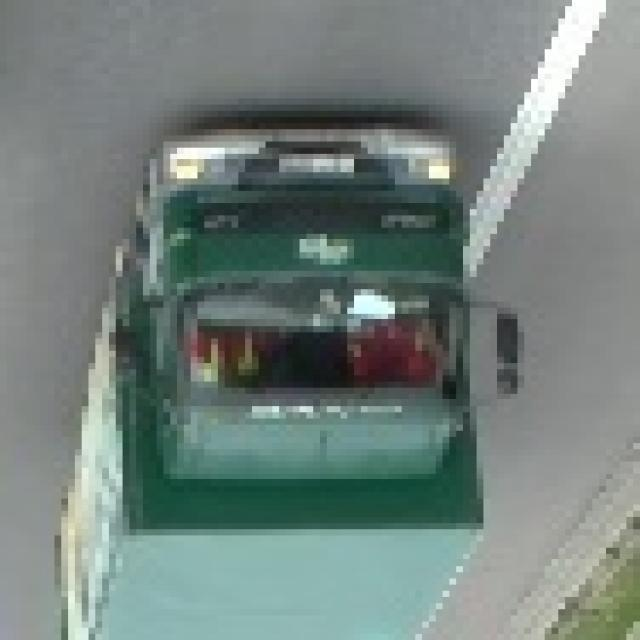truck: (48, 123, 518, 640)
